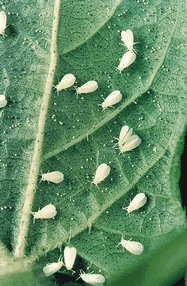whitefly: (89, 162, 111, 190), (116, 233, 144, 255), (122, 192, 147, 215), (116, 134, 142, 156), (114, 125, 133, 153), (98, 90, 122, 112), (115, 51, 136, 75), (52, 73, 76, 94), (76, 268, 104, 285), (42, 256, 64, 277), (120, 29, 137, 55), (37, 169, 64, 185), (30, 205, 57, 221), (62, 245, 76, 271), (75, 80, 99, 95)
